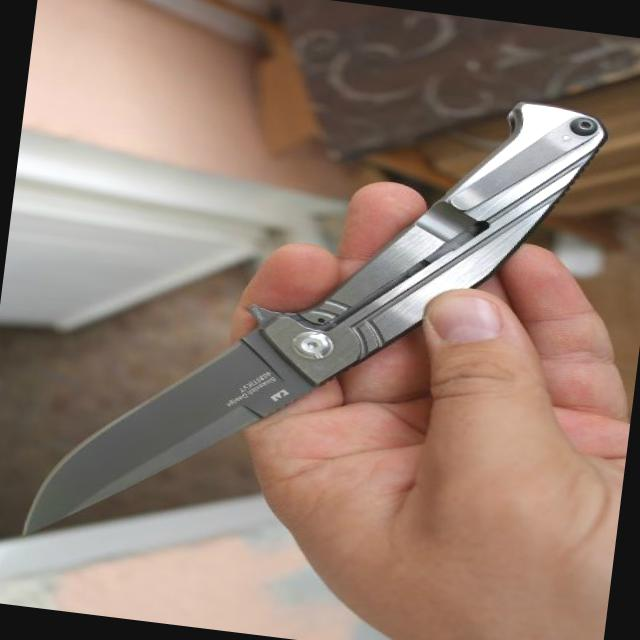knife: (0, 240, 436, 603)
